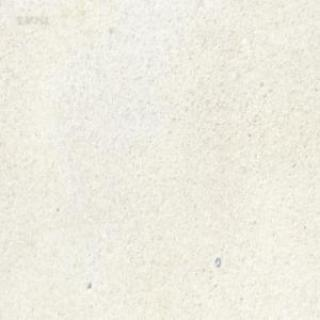Washertrack_idkeyframe: (213, 256, 220, 266)
